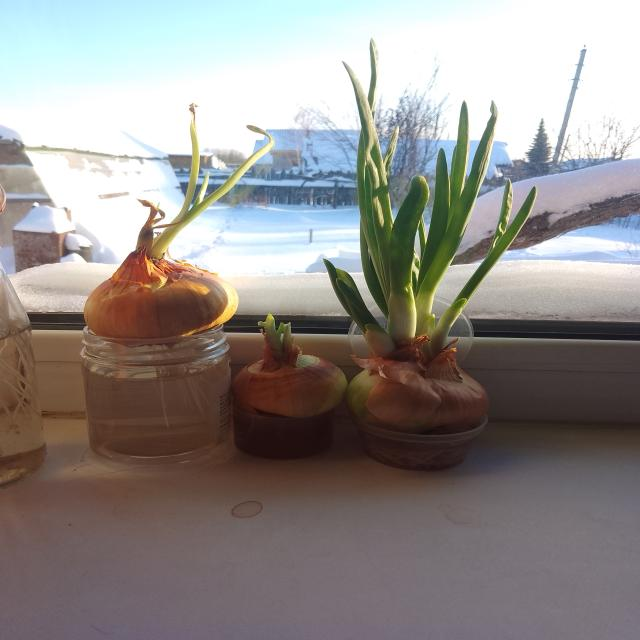onion: (350, 349, 491, 442), (84, 261, 235, 346), (241, 354, 345, 418)
